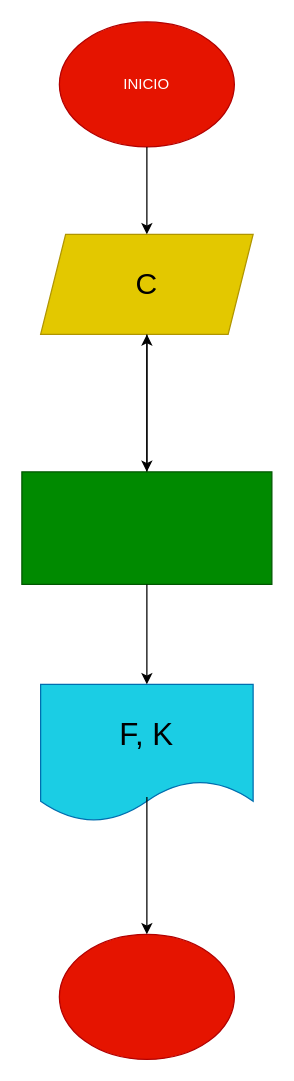
This 294x1081 diagram has some shape labels left out. The shapes that lost their labels are listed below. From the top down, each one's box as (x1, y1, x2, y2) in pixels, then its label:
(21, 471, 272, 584): F= 9/5C + 32 K= 273.15 + C
(58, 933, 234, 1059): FIN
